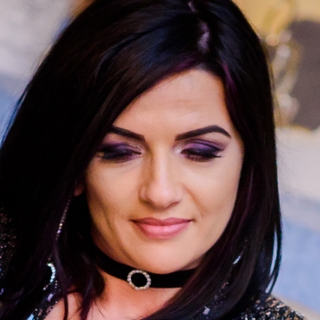eye: (177, 140, 226, 165), (97, 140, 145, 164)
